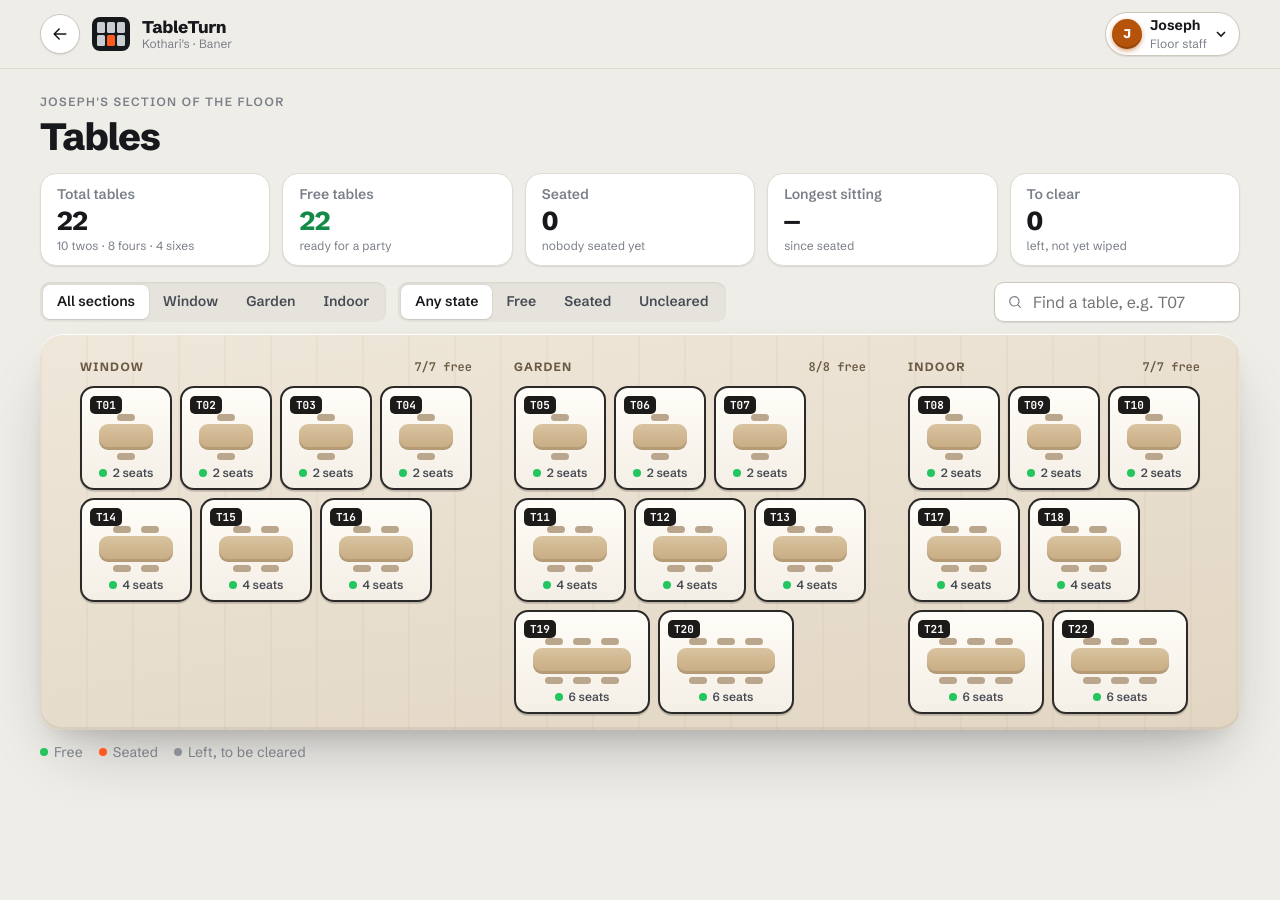
Test case: F-02 · Moving between people › the person button opens "View the restaurant as" with the four people and their roles
Click the button "J Joseph Floor staff": (1173, 34) [1105,12,1240,56]
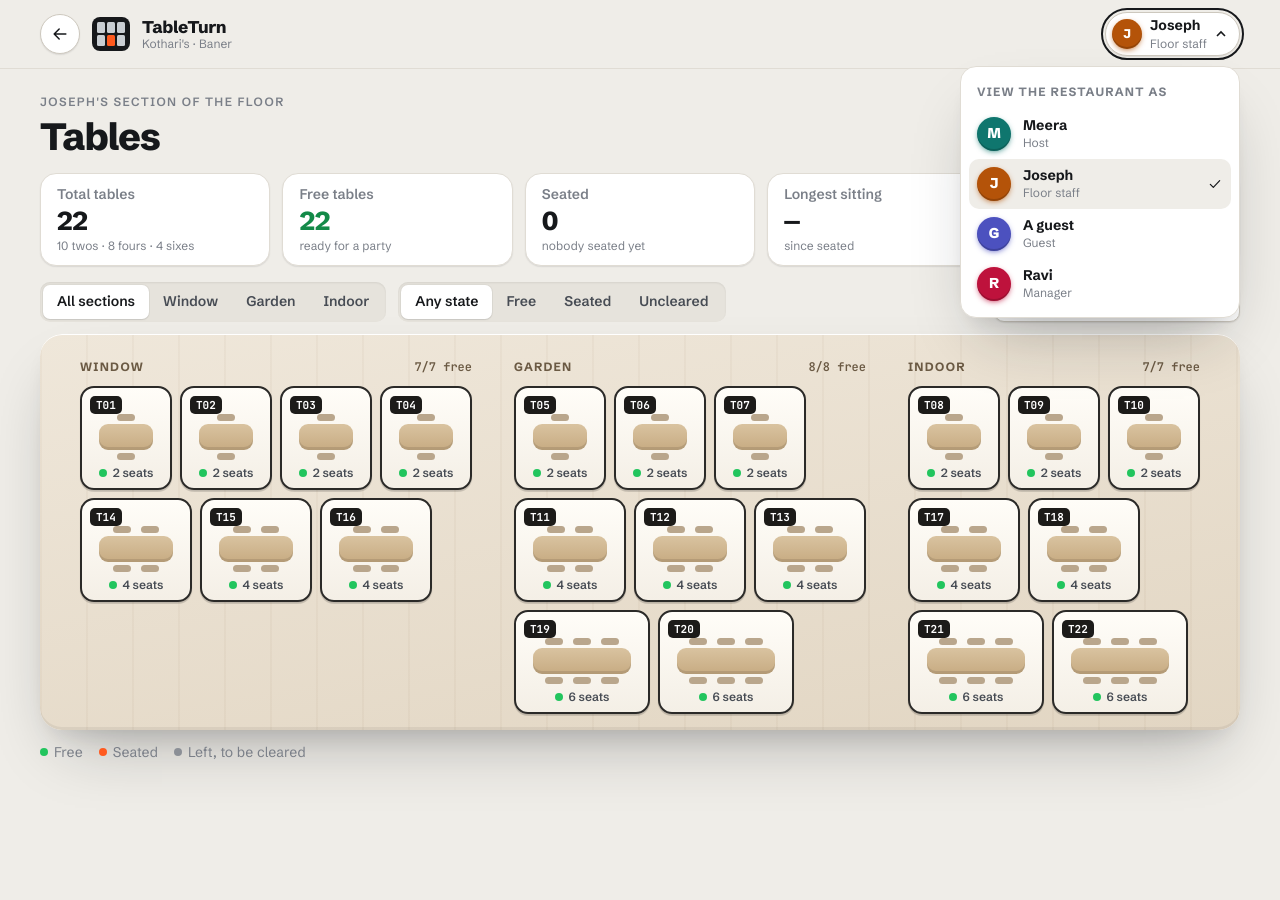
Now the text "View the restaurant as" is shown, box [977,84,1168,99]
Now the number of menu items is 4, box [969,109,1231,159]; [969,159,1231,209]; [969,209,1231,259]; [969,259,1231,309]
